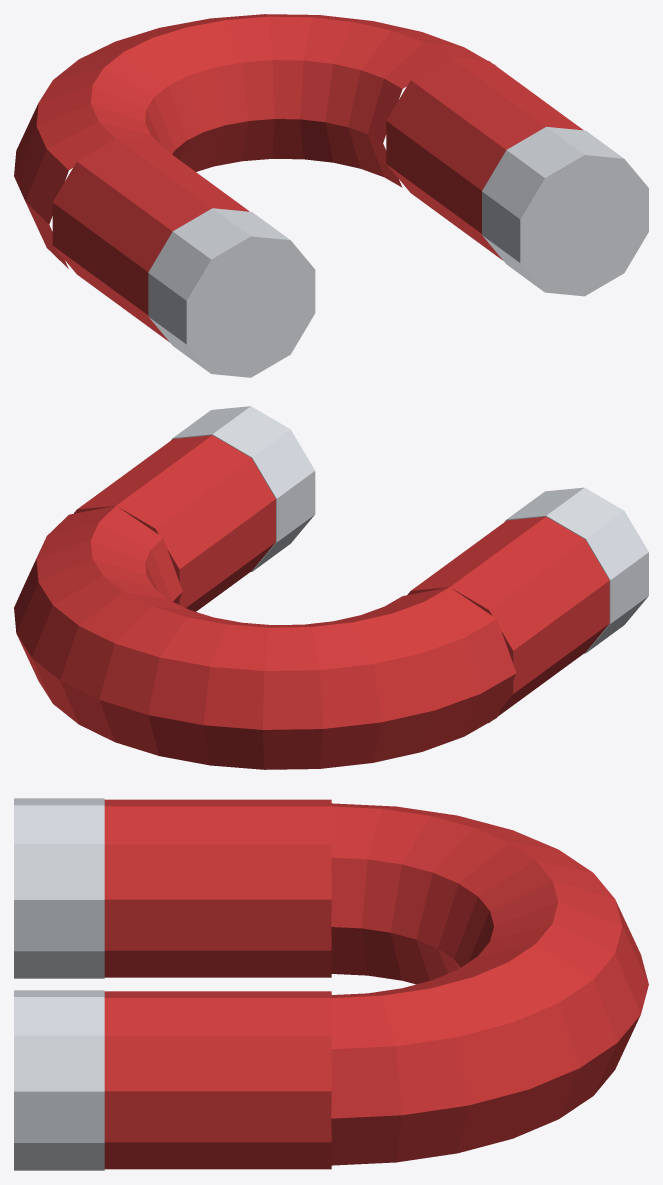
Rendered from fair_magnet.glb.
The picture shows the model from 3 angles, top to bottom: view 1: azimuth 30°, elevation 25°; view 2: azimuth 150°, elevation 25°; view 3: azimuth 270°, elevation 25°; orthographic projection. The views are drawn at different scales.
Visible parts, largest first — view 1: horseshoe_fair_red, tips_magnet_tip; view 2: horseshoe_fair_red, tips_magnet_tip; view 3: horseshoe_fair_red, tips_magnet_tip.
Part boxes in pixels (bbox=[...]): horseshoe_fair_red: bbox=[14, 14, 583, 342]; tips_magnet_tip: bbox=[148, 126, 648, 377]; horseshoe_fair_red: bbox=[14, 435, 609, 769]; tips_magnet_tip: bbox=[171, 406, 648, 653]; horseshoe_fair_red: bbox=[104, 799, 648, 1169]; tips_magnet_tip: bbox=[14, 798, 104, 1170].
Bounding box in the file's own units: 0.56 × 0.162 × 0.56.
